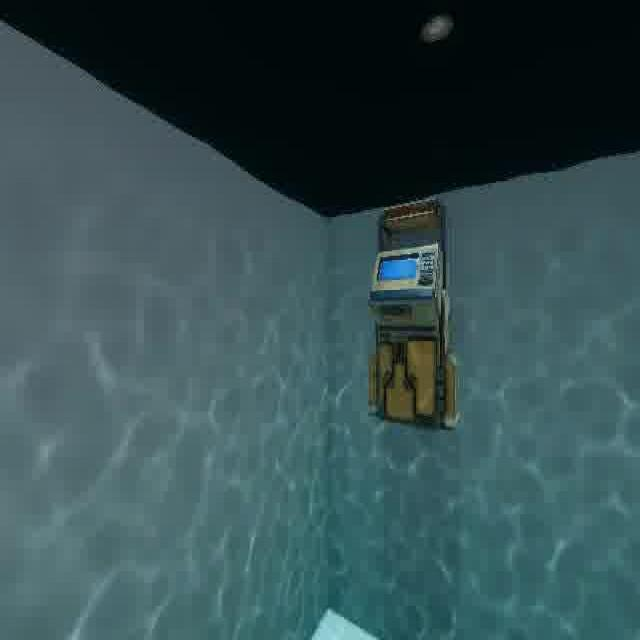Control Panel: (361, 190, 471, 446)
